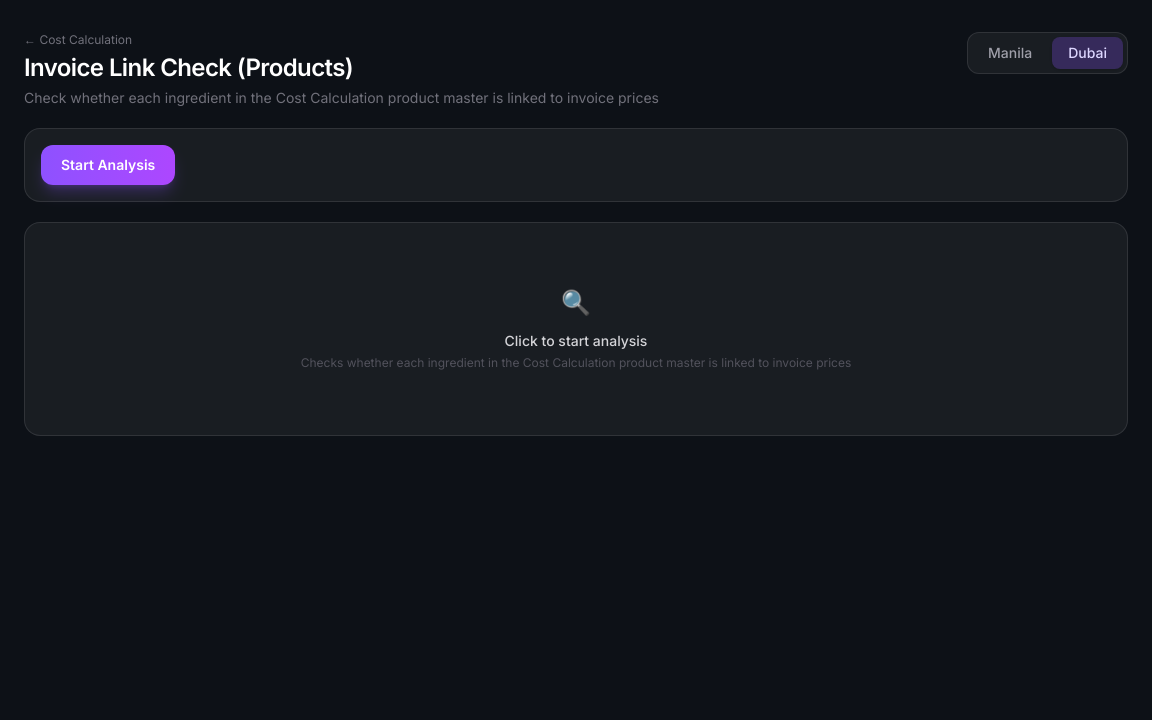
it: CostCheckPage — filter tabs › shows the All and Needs Review filter buttons after analysis
The image size is (1152, 720).
Expected: the heading "Invoice Link Check (Products)" is shown, [24,53,353,82]
Click the button "Start Analysis" at (108, 165), box [41,145,175,185]
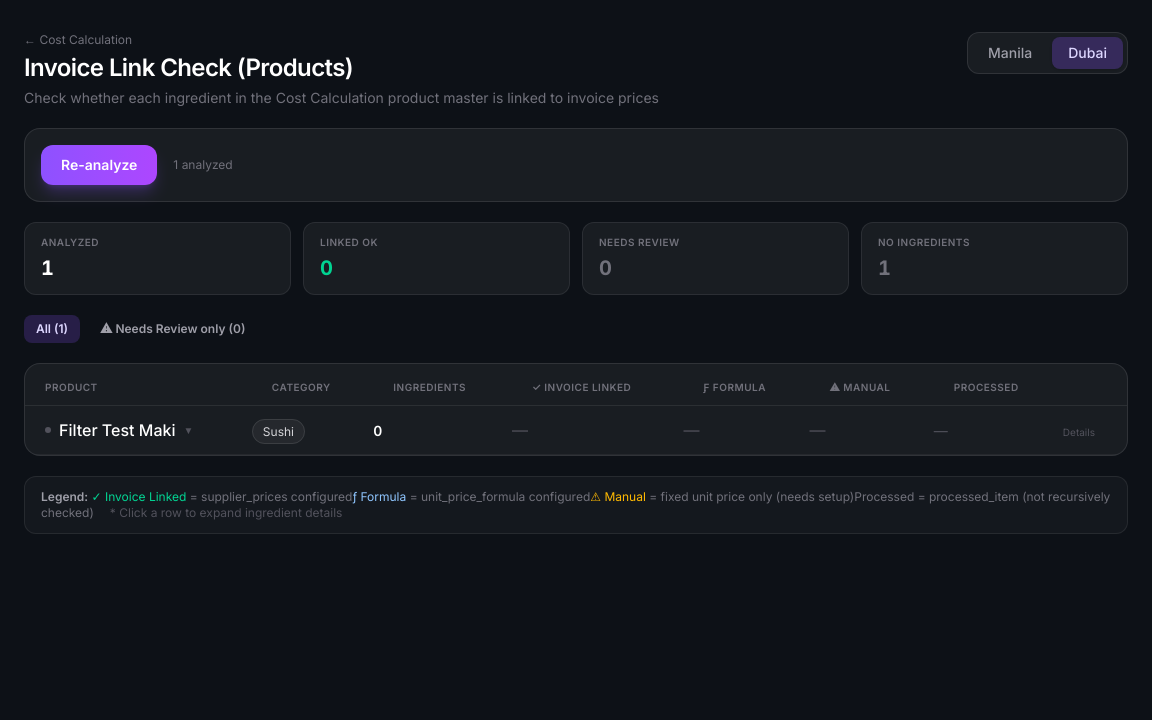
Expected: the text "Details" is shown, [1063,426,1095,438]
Expected: the button "All (1)" is shown, [24,315,80,343]
Expected: the button "⚠ Needs Review only (0)" is shown, [88,315,257,343]
